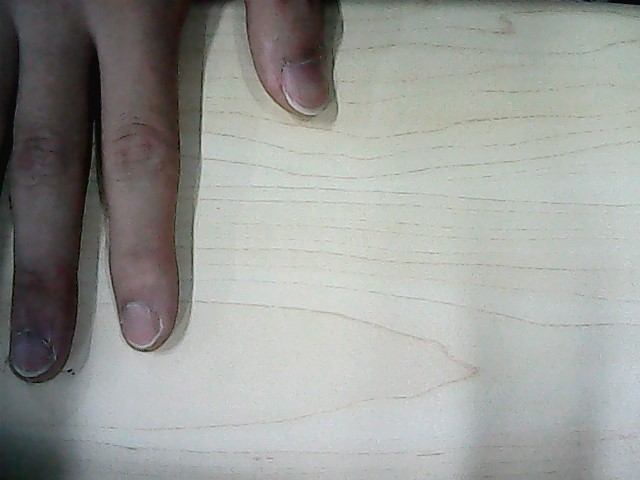nail: (283, 58, 332, 117), (120, 306, 163, 351), (12, 334, 53, 378)
